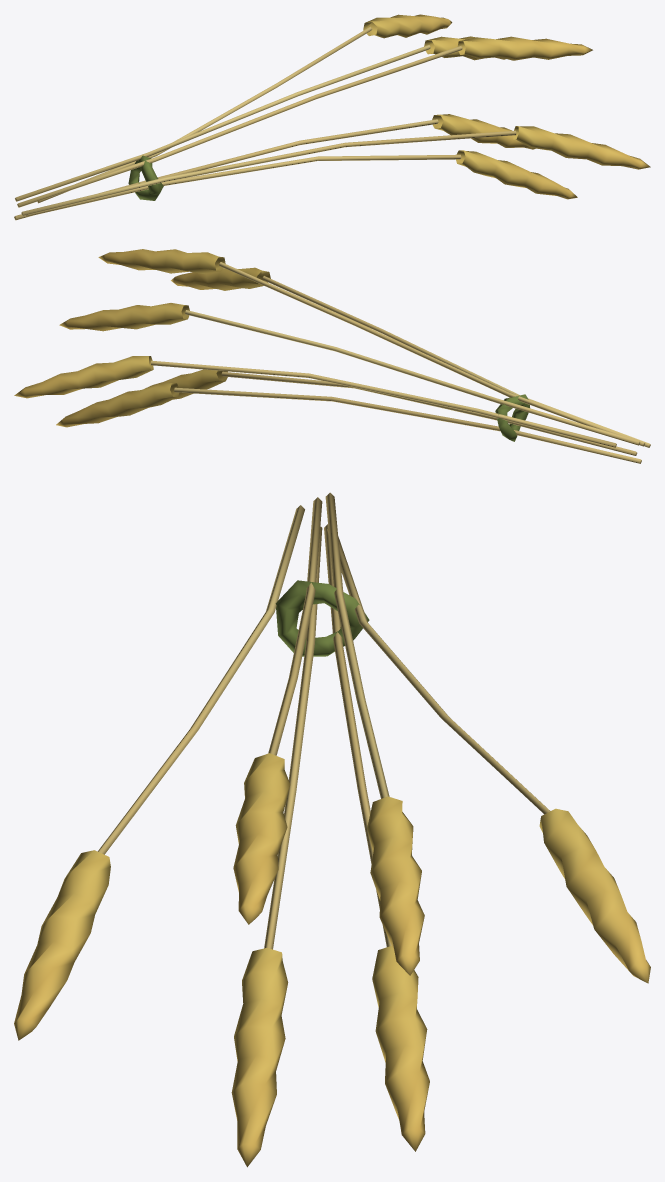
File: grain.glb
3 renders of one model, top to bottom at view 1: azimuth 30°, elevation 25°; view 2: azimuth 150°, elevation 25°; view 3: azimuth 270°, elevation 25°, orthographic. The views are drawn at different scales.
Visible parts, largest first — view 1: grain; view 2: grain; view 3: grain.
Part boxes in pixels (x1,y1,x2,y2): grain: (14, 14, 650, 220); grain: (14, 249, 650, 463); grain: (14, 492, 650, 1167).
Bounding box in the file's own units: 0.4065 × 0.1248 × 0.2255.
